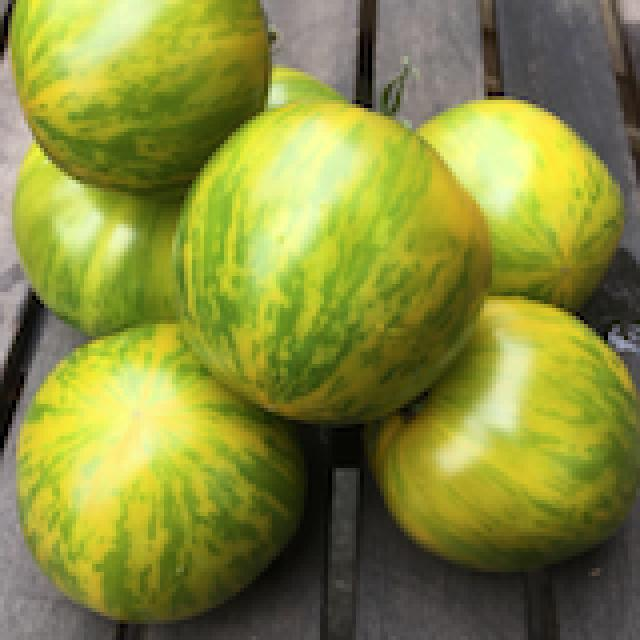yesil: (6, 0, 636, 600)
